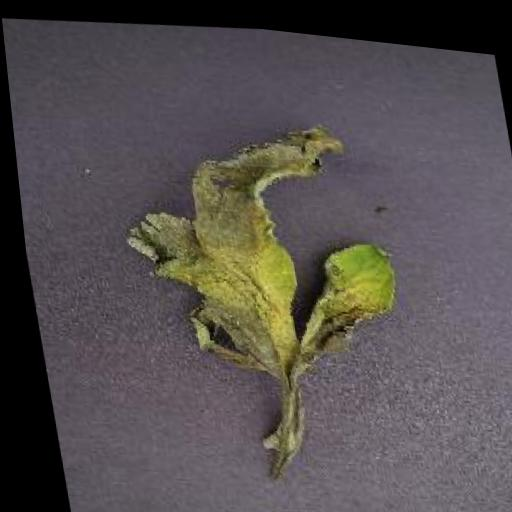Late Blight: (104, 93, 407, 386)
